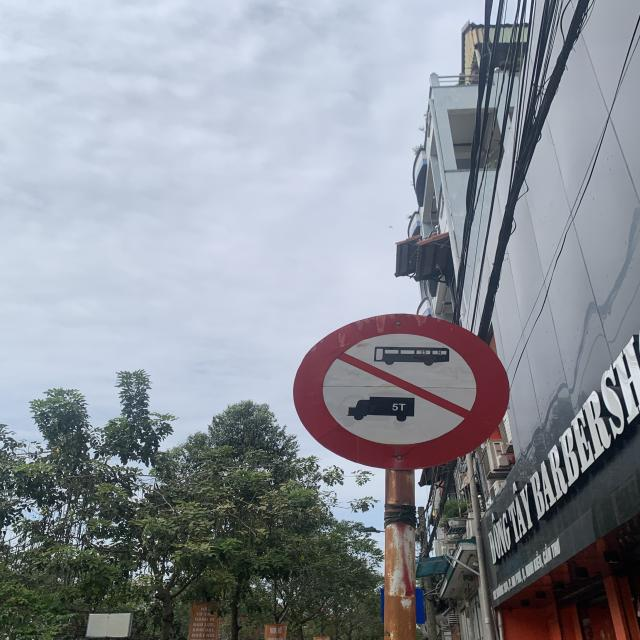Cam_XeTai_XeKhach: (294, 311, 512, 471)
